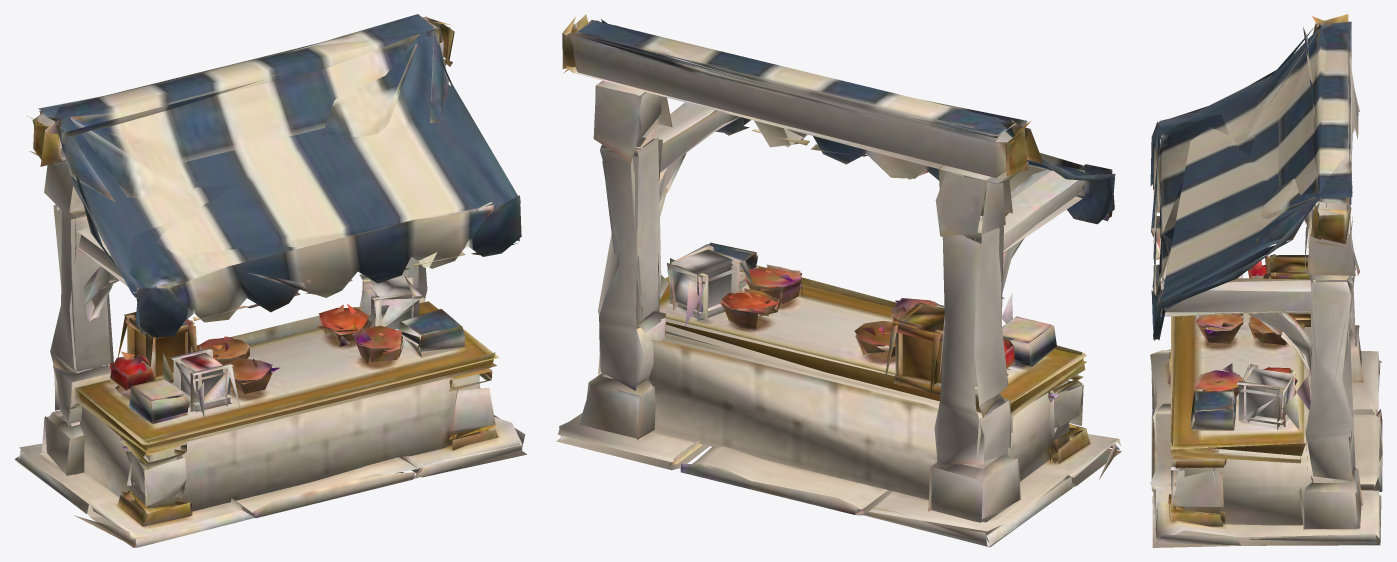
File: o-etal-semis.glb
The picture shows the model from 3 angles, left to right: view 1: azimuth 30°, elevation 25°; view 2: azimuth 150°, elevation 25°; view 3: azimuth 270°, elevation 25°; orthographic projection. The views are drawn at different scales.
Visible parts, largest first — view 1: o-etal-semis; view 2: o-etal-semis; view 3: o-etal-semis.
Boxes of the visible parts, left/top/right/bottom form: o-etal-semis: left=15, top=14, right=526, bottom=547; o-etal-semis: left=556, top=14, right=1121, bottom=547; o-etal-semis: left=1150, top=14, right=1382, bottom=547.
Size of the model in its own units: 0.9821 by 0.8004 by 0.484.
1 material, 1 textured.
